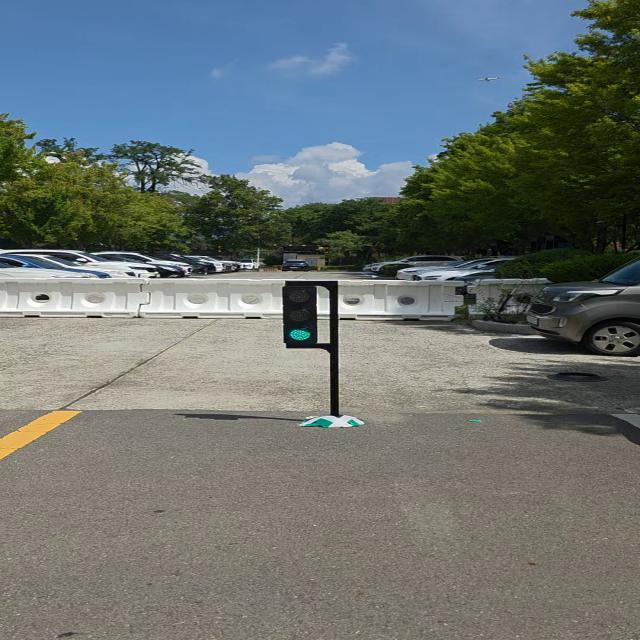green: (282, 282, 318, 348)
